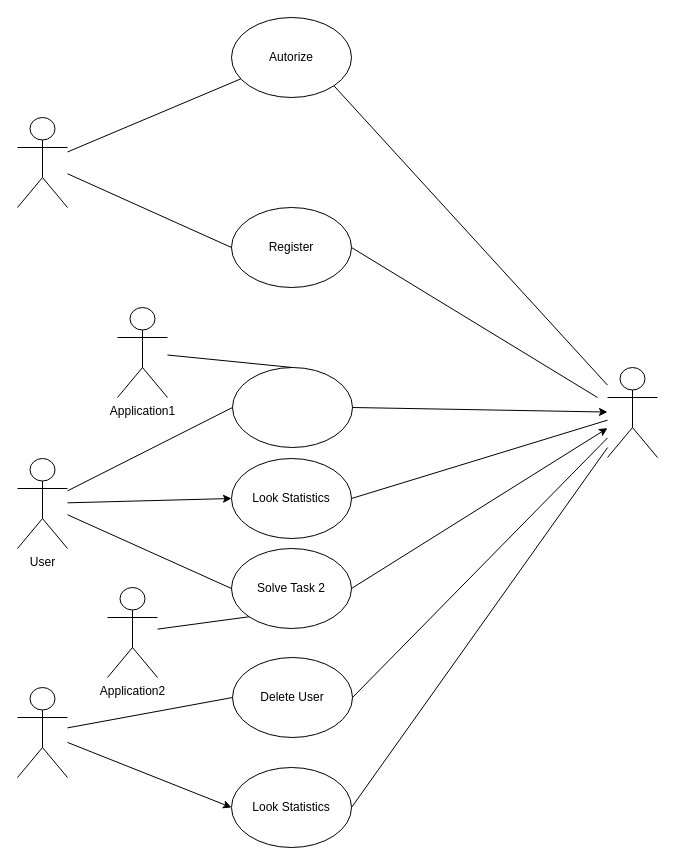
Image size: 675x865. Some labels were removed from this diagram. Here are the shapes that lost their labels. From the top down, the box of each, then its label:
(16, 116, 68, 208): Anonim
(232, 366, 352, 448): Solve Task 1
(606, 366, 658, 458): Server
(16, 686, 68, 778): Admin
